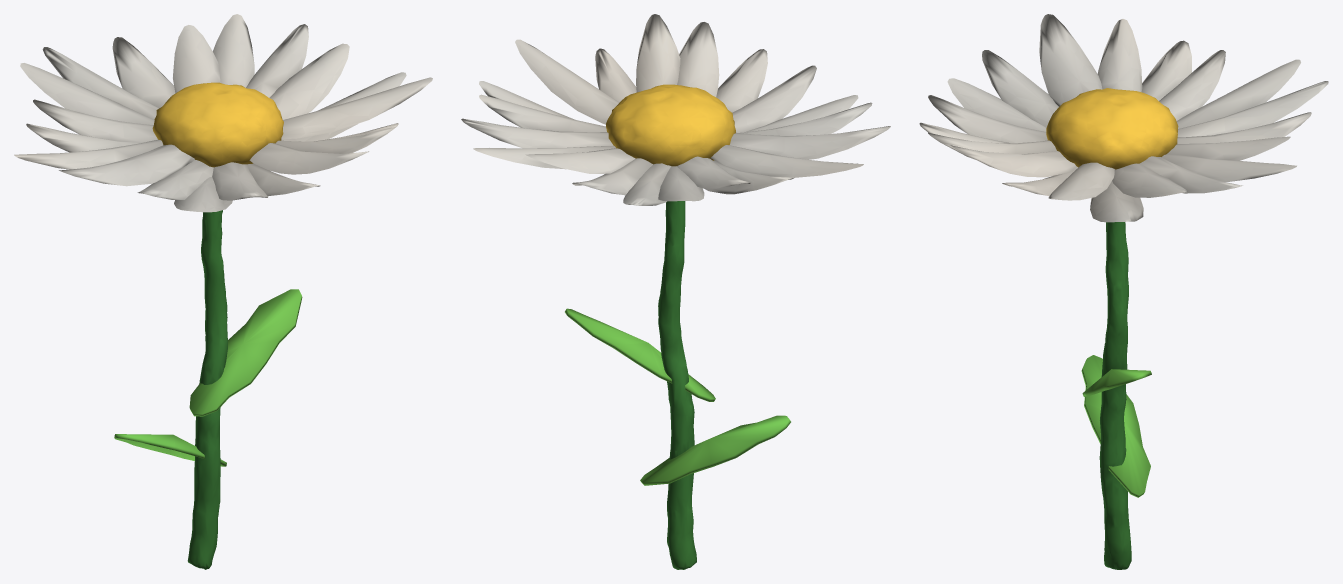
File: glade_flower_daisy.glb
3 renders of one model, left to right at view 1: azimuth 30°, elevation 25°; view 2: azimuth 150°, elevation 25°; view 3: azimuth 270°, elevation 25°, orthographic. The views are drawn at different scales.
Visible parts, largest first — view 1: glade_flower_daisy; view 2: glade_flower_daisy; view 3: glade_flower_daisy.
Boxes of the visible parts, x1,y1,x2,y2 form: glade_flower_daisy: [14, 14, 432, 569]; glade_flower_daisy: [461, 14, 890, 569]; glade_flower_daisy: [919, 14, 1328, 569].
Bounding box in the file's own units: 17.27 × 20 × 15.56.
